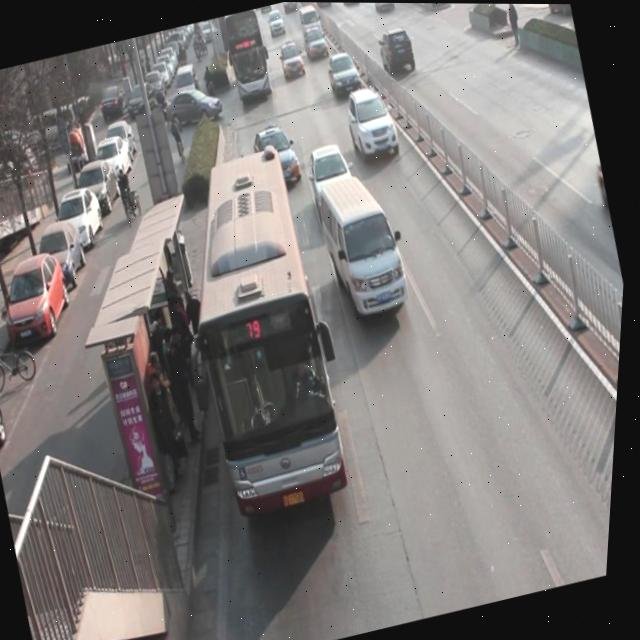car: (341, 84, 406, 161), (304, 140, 365, 222), (251, 122, 309, 190), (374, 24, 423, 80), (324, 50, 364, 99), (276, 40, 308, 82), (300, 25, 331, 62)
truck: (314, 172, 424, 332), (296, 4, 324, 39)
van: (154, 148, 373, 522), (216, 8, 275, 100)
